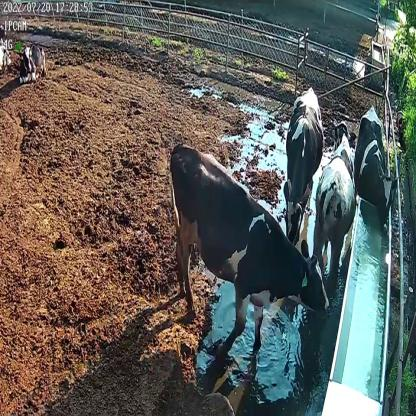cow: (168, 136, 330, 365), (314, 118, 357, 286), (282, 86, 324, 242), (356, 102, 402, 238), (18, 39, 48, 84)
